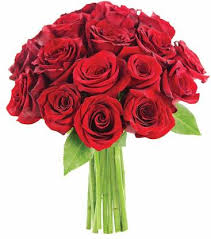lale: (66, 45, 131, 97), (125, 82, 170, 147), (30, 81, 81, 137), (74, 97, 125, 152), (31, 35, 90, 75), (0, 73, 41, 128), (154, 63, 201, 108), (176, 37, 211, 89), (136, 27, 179, 67), (123, 44, 160, 88), (81, 22, 138, 50)
